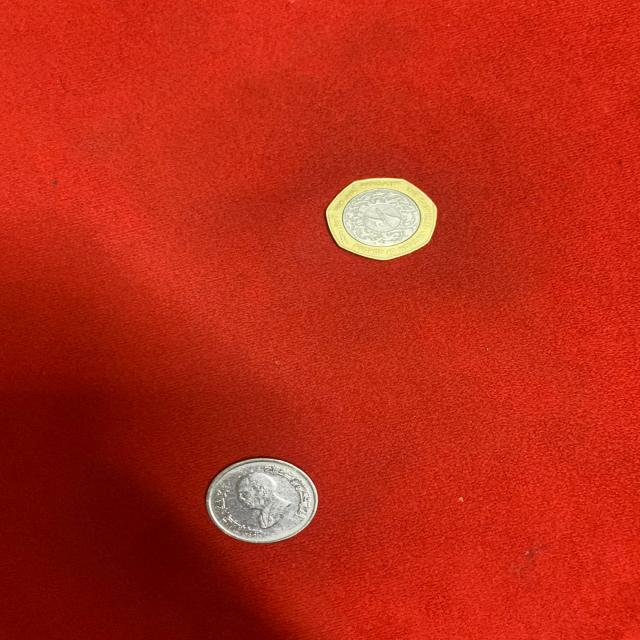10-coins: (205, 457, 318, 544)
50-coins: (326, 177, 438, 262)
